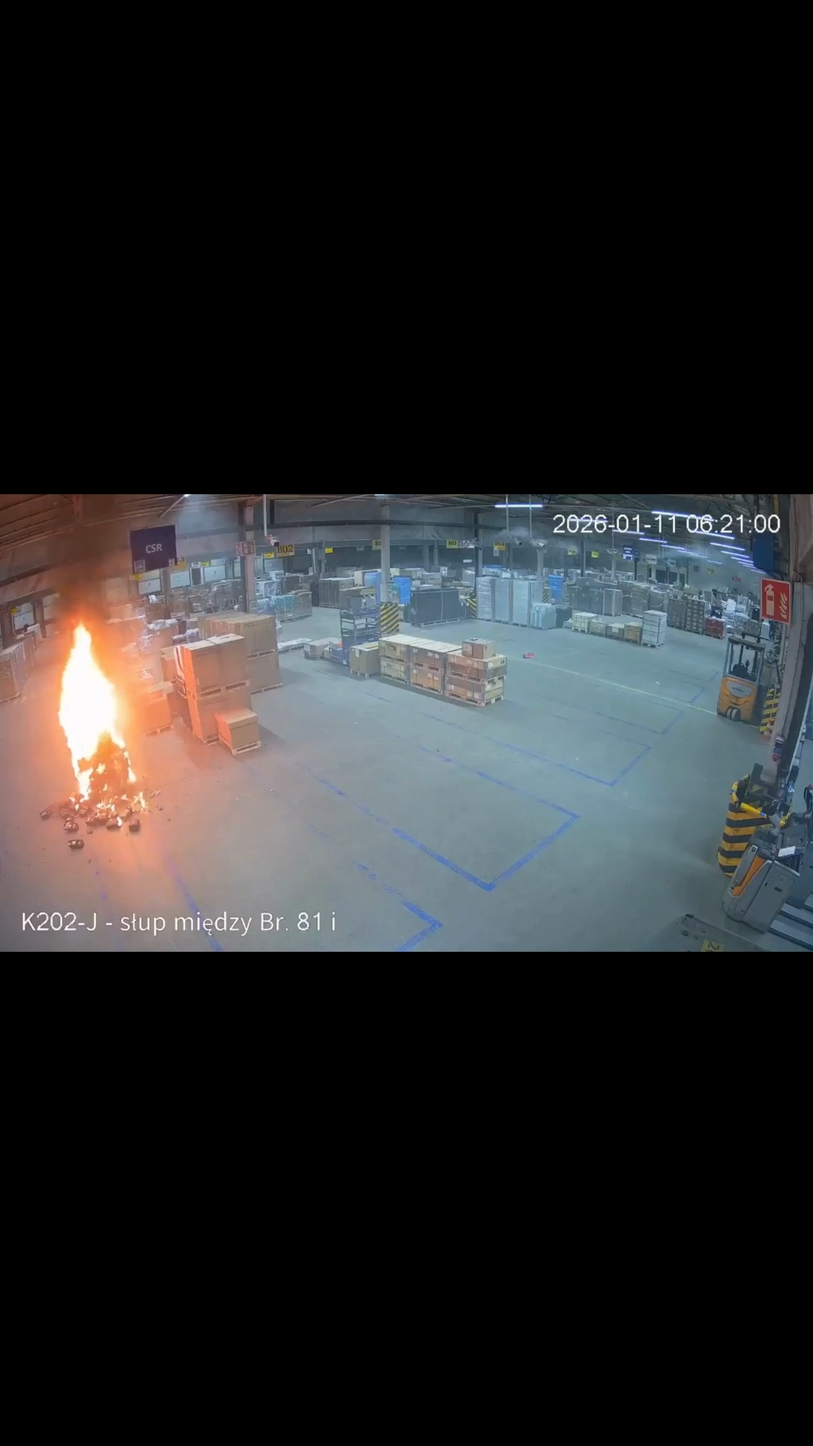fire: (56, 618, 145, 817)
smoke: (28, 496, 159, 630)
